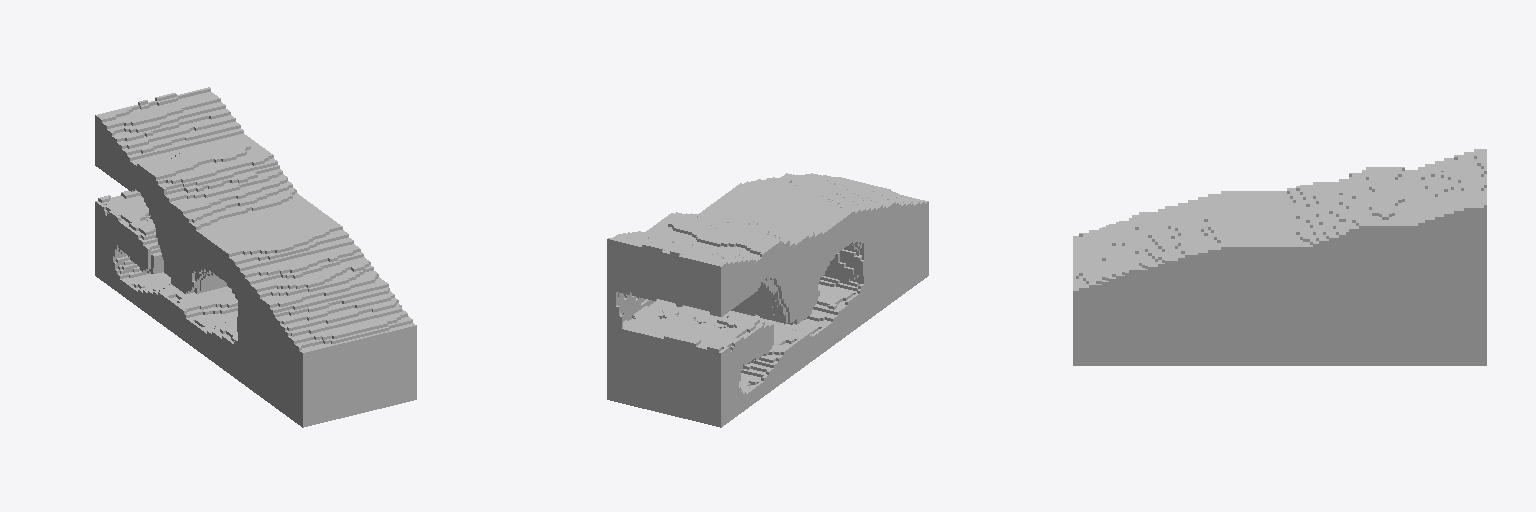
The model's file is level 1-4 Naast.obj.
The picture shows the model from 3 angles: view 1: azimuth 30°, elevation 25°; view 2: azimuth 150°, elevation 25°; view 3: azimuth 270°, elevation 25°; orthographic projection.
Visible parts, largest first — view 1: default; view 2: default; view 3: default.
Part boxes in pixels (x1,y1,x2,y2): default: (95,87,416,427); default: (607,173,928,427); default: (1073,149,1486,365).
Size of the model in its own units: 40 by 55 by 126.